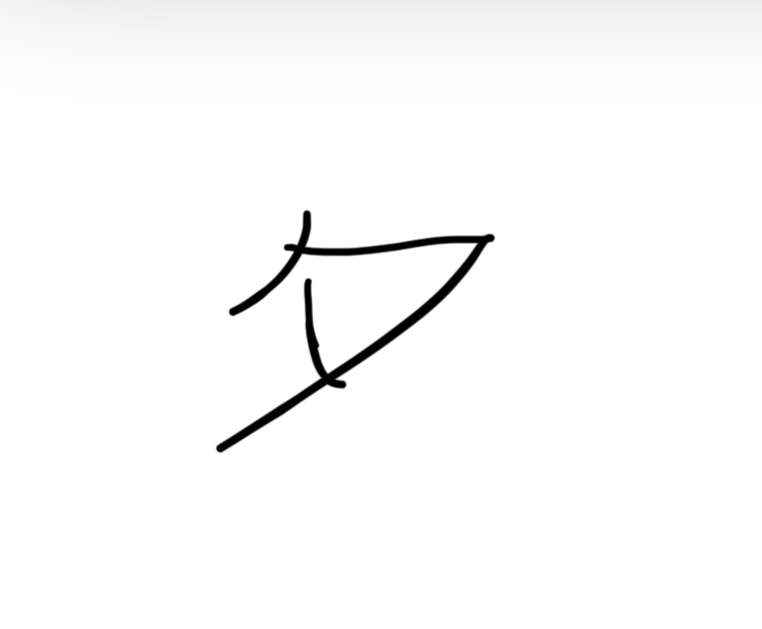ta: (187, 199, 502, 470)
